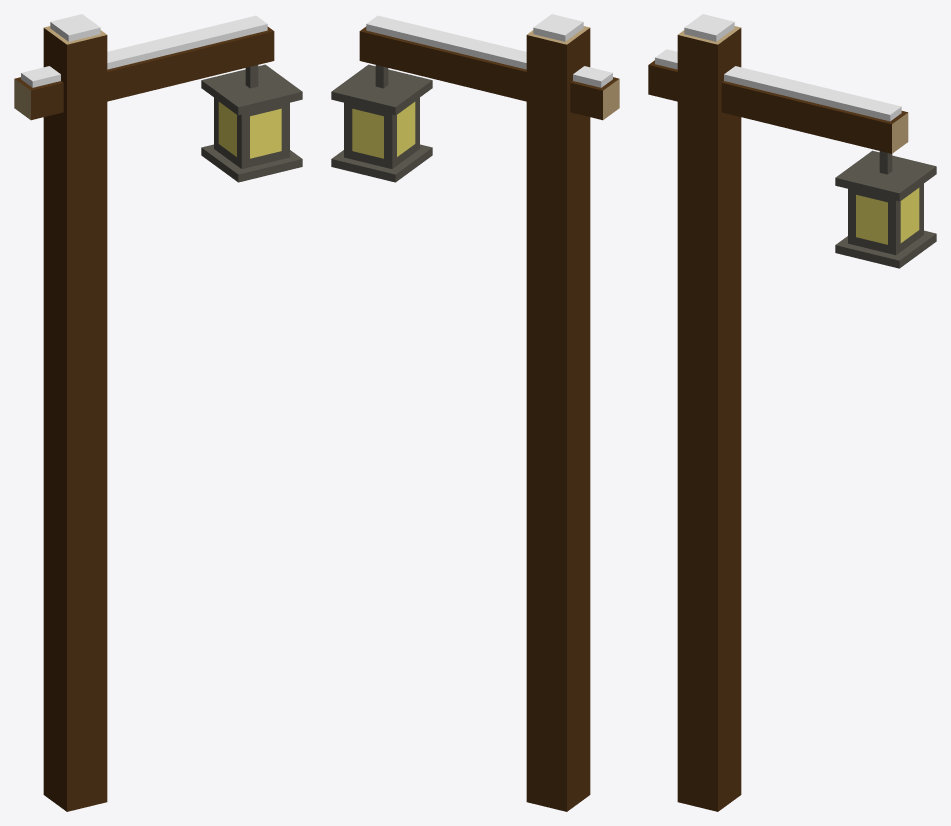
Rendered from Lantern.fbx.
3 renders of one model, left to right at view 1: azimuth 30°, elevation 25°; view 2: azimuth 150°, elevation 25°; view 3: azimuth 330°, elevation 25°, orthographic.
Visible parts, largest first — view 1: Lantern; view 2: Lantern; view 3: Lantern.
Boxes of the visible parts, left/top/right/bottom form: Lantern: left=14, top=14, right=302, bottom=811; Lantern: left=331, top=14, right=619, bottom=811; Lantern: left=648, top=14, right=936, bottom=811.
Size of the model in its own units: 0.2591 by 0.7329 by 0.0636.
